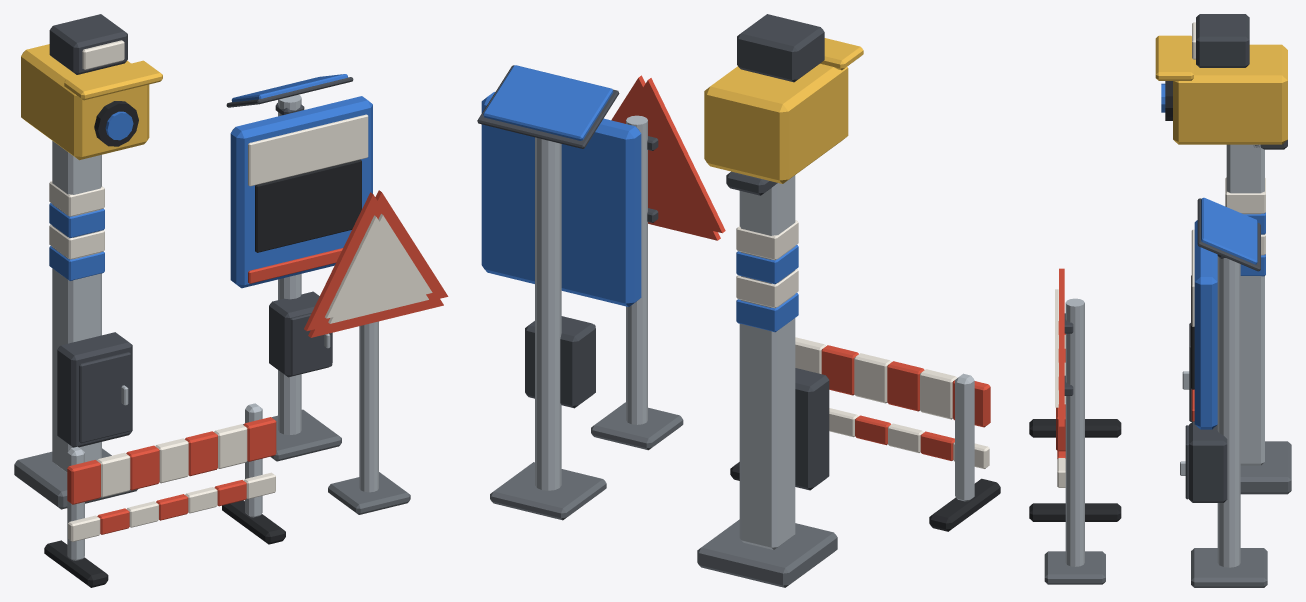
Rendered from speed-camera-set.glb.
3 views of the same model, side by side, from view 1: azimuth 30°, elevation 25°; view 2: azimuth 150°, elevation 25°; view 3: azimuth 270°, elevation 25° (orthographic). The views are drawn at different scales.
Parts seen in each view (by area): view 1: SpeedCamera_Post, RadarSpeedSign, Barrier_Striped, WarningSign_Blank, RadarSign_Display, CameraCabinet_Door, RadarBattery_Door; view 2: SpeedCamera_Post, RadarSpeedSign, Barrier_Striped, WarningSign_Blank; view 3: SpeedCamera_Post, RadarSpeedSign, WarningSign_Blank, Barrier_Striped, RadarBattery_Door, CameraCabinet_Door.
Part boxes in pixels (<box>): SpeedCamera_Post: <box>14,14,162,509</box>; RadarSpeedSign: <box>226,74,372,461</box>; Barrier_Striped: <box>44,403,285,587</box>; WarningSign_Blank: <box>304,190,448,514</box>; RadarSign_Display: <box>255,159,361,252</box>; CameraCabinet_Door: <box>79,352,130,443</box>; RadarBattery_Door: <box>290,313,332,375</box>; SpeedCamera_Post: <box>697,14,863,587</box>; RadarSpeedSign: <box>477,65,641,520</box>; Barrier_Striped: <box>730,337,1000,531</box>; WarningSign_Blank: <box>591,75,725,450</box>; SpeedCamera_Post: <box>1155,14,1291,494</box>; RadarSpeedSign: <box>1189,197,1267,587</box>; WarningSign_Blank: <box>1044,268,1105,584</box>; Barrier_Striped: <box>1029,321,1121,521</box>; RadarBattery_Door: <box>1180,425,1188,499</box>; CameraCabinet_Door: <box>1182,323,1192,421</box>.
Size of the model in its own units: 11.06 by 13 by 6.85.
